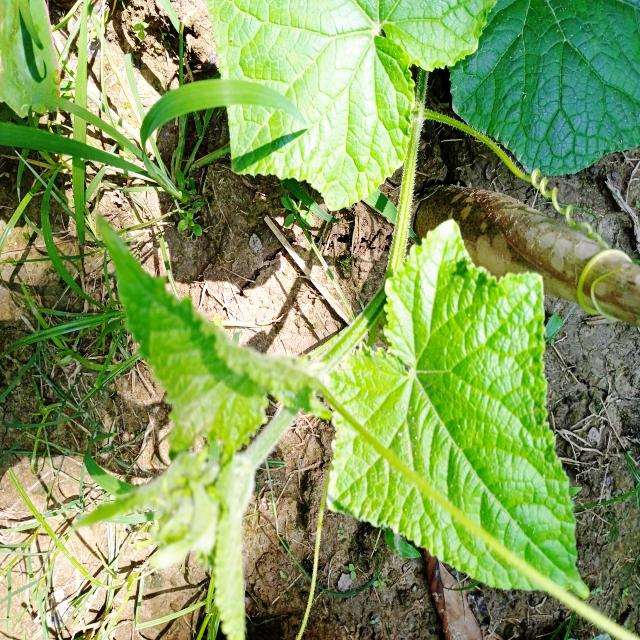Fresh-Leaf: (323, 218, 590, 599), (208, 0, 494, 217), (447, 0, 640, 173)
